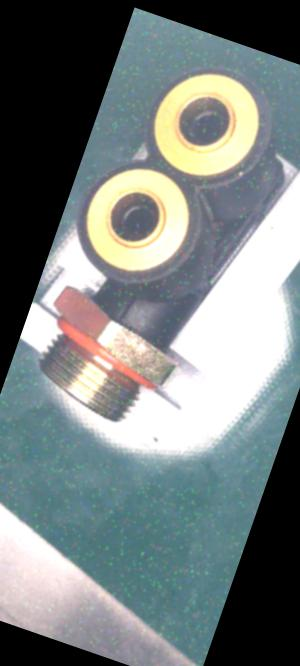craze: (113, 293, 142, 328)
